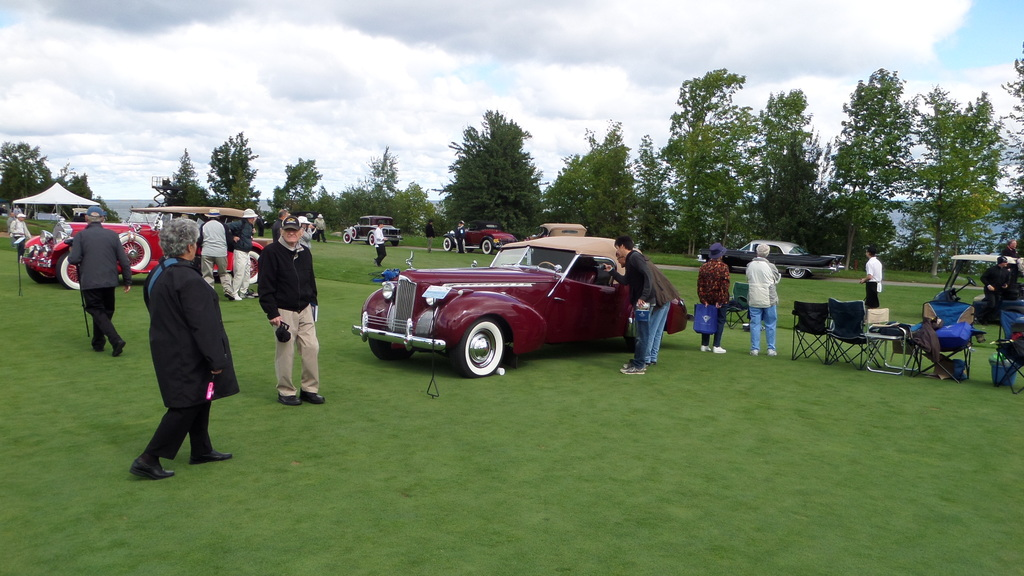cars: (349, 233, 693, 382), (26, 203, 265, 288), (699, 241, 851, 278), (440, 225, 515, 255), (341, 216, 400, 245)
